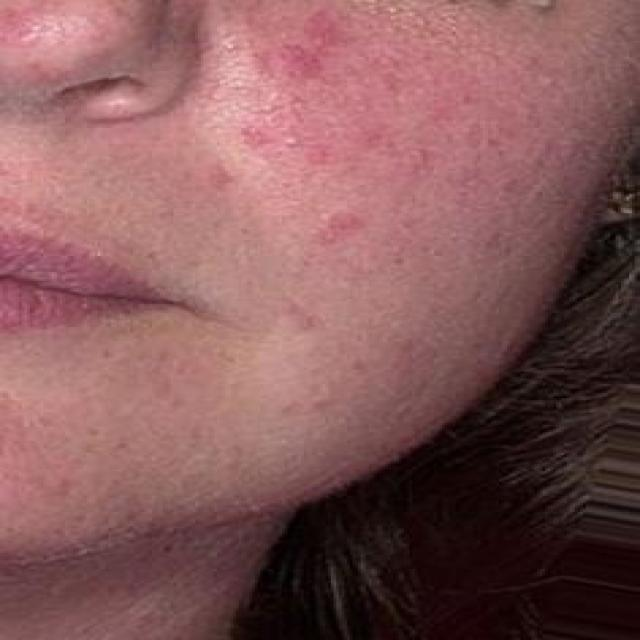Rosacea: (210, 5, 500, 255)
